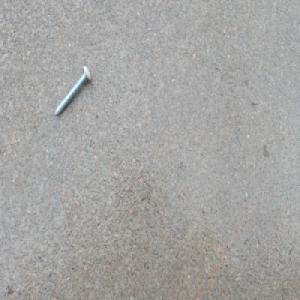Nail: (52, 64, 91, 119)
